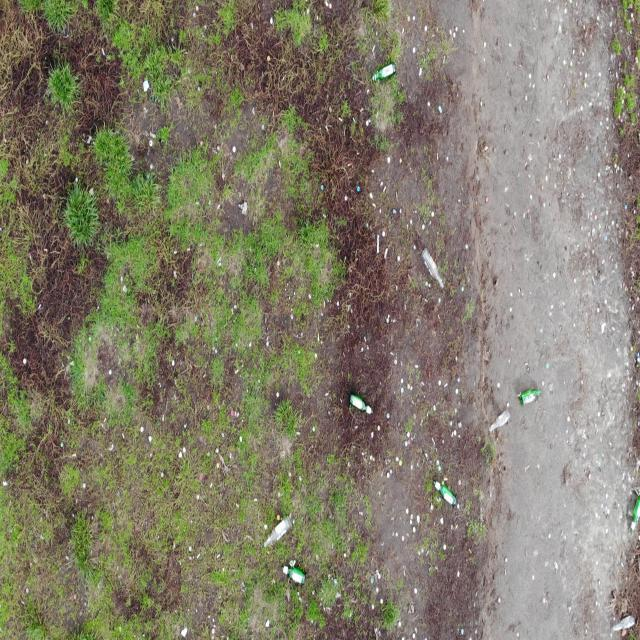rubbish: (263, 512, 294, 548), (420, 245, 443, 289), (432, 479, 457, 504), (490, 407, 512, 431), (370, 61, 395, 82), (349, 394, 374, 414), (281, 565, 306, 584), (518, 388, 542, 407), (630, 498, 640, 537), (612, 614, 635, 630)
